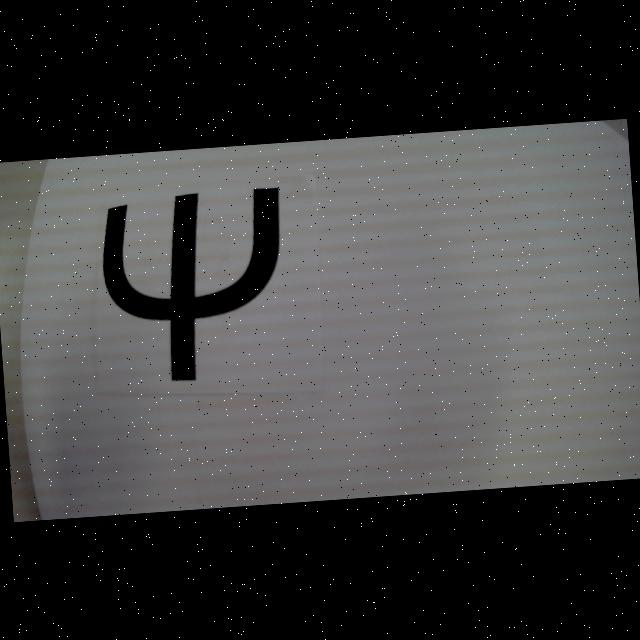PSI: (98, 186, 293, 387)
